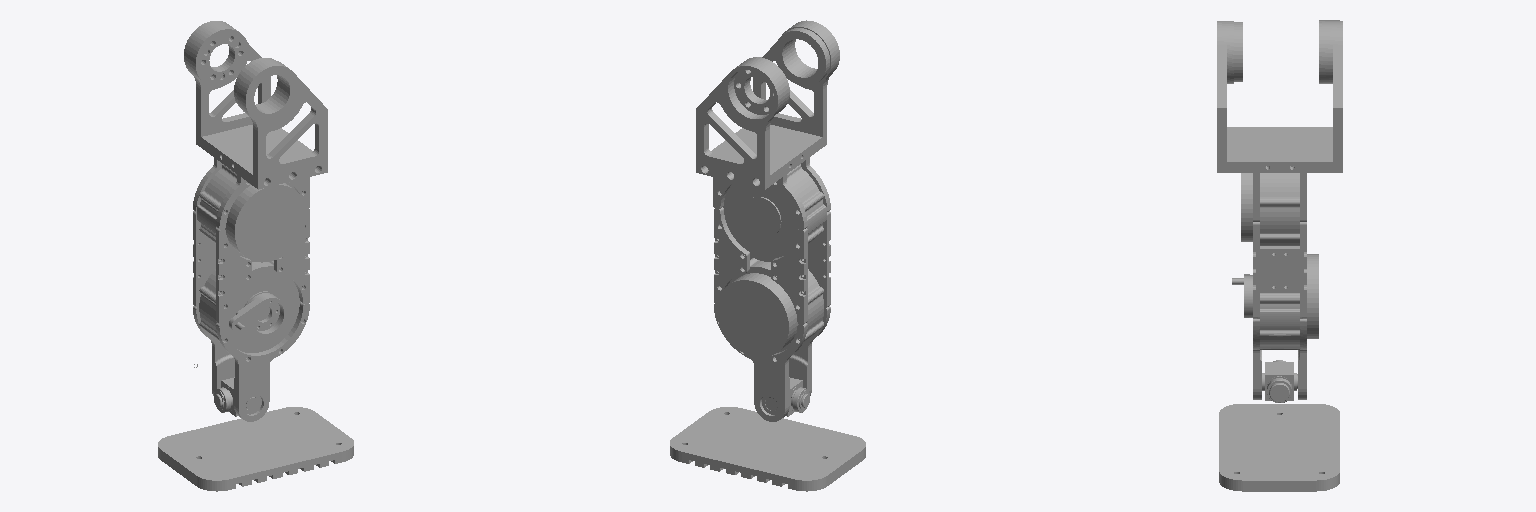
robot.urdf — rsu_2dof:
<?xml version="1.0" ?>
<!-- =================================================================================== -->
<!-- |    This document was autogenerated by xacro from rsu_2dof.xacro                 | -->
<!-- |    EDITING THIS FILE BY HAND IS NOT RECOMMENDED                                 | -->
<!-- =================================================================================== -->
<robot name="rsu_2dof">
  <material name="silver">
    <color rgba="0.700 0.700 0.700 1.000"/>
  </material>
  <transmission name="upper_crank_tran">
    <type>transmission_interface/SimpleTransmission</type>
    <joint name="upper_crank">
      <hardwareInterface>hardware_interface/EffortJointInterface</hardwareInterface>
    </joint>
    <actuator name="upper_crank_actr">
      <hardwareInterface>hardware_interface/EffortJointInterface</hardwareInterface>
      <mechanicalReduction>1</mechanicalReduction>
    </actuator>
  </transmission>
  <transmission name="lower_crank_tran">
    <type>transmission_interface/SimpleTransmission</type>
    <joint name="lower_crank">
      <hardwareInterface>hardware_interface/EffortJointInterface</hardwareInterface>
    </joint>
    <actuator name="lower_crank_actr">
      <hardwareInterface>hardware_interface/EffortJointInterface</hardwareInterface>
      <mechanicalReduction>1</mechanicalReduction>
    </actuator>
  </transmission>
  <transmission name="ankle_pitch_tran">
    <type>transmission_interface/SimpleTransmission</type>
    <joint name="ankle_pitch">
      <hardwareInterface>hardware_interface/EffortJointInterface</hardwareInterface>
    </joint>
    <actuator name="ankle_pitch_actr">
      <hardwareInterface>hardware_interface/EffortJointInterface</hardwareInterface>
      <mechanicalReduction>1</mechanicalReduction>
    </actuator>
  </transmission>
  <transmission name="ankle_roll_tran">
    <type>transmission_interface/SimpleTransmission</type>
    <joint name="ankle_roll">
      <hardwareInterface>hardware_interface/EffortJointInterface</hardwareInterface>
    </joint>
    <actuator name="ankle_roll_actr">
      <hardwareInterface>hardware_interface/EffortJointInterface</hardwareInterface>
      <mechanicalReduction>1</mechanicalReduction>
    </actuator>
  </transmission>
  <gazebo>
    <plugin filename="libgazebo_ros_control.so" name="control"/>
  </gazebo>
  <gazebo reference="base_link">
    <material>Gazebo/Silver</material>
    <mu1>0.2</mu1>
    <mu2>0.2</mu2>
    <self_collide>true</self_collide>
    <gravity>true</gravity>
  </gazebo>
  <gazebo reference="upper_crank_1">
    <material>Gazebo/Silver</material>
    <mu1>0.2</mu1>
    <mu2>0.2</mu2>
    <self_collide>true</self_collide>
  </gazebo>
  <gazebo reference="dummy_crank_1">
    <material>Gazebo/Silver</material>
    <mu1>0.2</mu1>
    <mu2>0.2</mu2>
    <self_collide>true</self_collide>
  </gazebo>
  <gazebo reference="ankle_1">
    <material>Gazebo/Silver</material>
    <mu1>0.2</mu1>
    <mu2>0.2</mu2>
    <self_collide>true</self_collide>
  </gazebo>
  <gazebo reference="dummy_foot_1">
    <material>Gazebo/Silver</material>
    <mu1>0.2</mu1>
    <mu2>0.2</mu2>
    <self_collide>true</self_collide>
  </gazebo>
  <gazebo reference="point_c1_1">
    <material>Gazebo/Silver</material>
    <mu1>0.2</mu1>
    <mu2>0.2</mu2>
    <self_collide>true</self_collide>
  </gazebo>
  <gazebo reference="point_c2_1">
    <material>Gazebo/Silver</material>
    <mu1>0.2</mu1>
    <mu2>0.2</mu2>
    <self_collide>true</self_collide>
  </gazebo>
  <gazebo reference="point_u1_1">
    <material>Gazebo/Silver</material>
    <mu1>0.2</mu1>
    <mu2>0.2</mu2>
    <self_collide>true</self_collide>
  </gazebo>
  <gazebo reference="point_u2_1">
    <material>Gazebo/Silver</material>
    <mu1>0.2</mu1>
    <mu2>0.2</mu2>
    <self_collide>true</self_collide>
  </gazebo>
  <gazebo reference="left_TPU_pad_1">
    <material>Gazebo/Silver</material>
    <mu1>0.2</mu1>
    <mu2>0.2</mu2>
    <self_collide>true</self_collide>
  </gazebo>
  <link name="base_link">
    <inertial>
      <origin rpy="0 0 0" xyz="-0.06454735857450085 2.9696553878366672e-05 0.2075971737886553"/>
      <mass value="2.397"/>
      <inertia ixx="0.011389" ixy="-6e-06" ixz="-0.000165" iyy="0.011333" iyz="0.000448" izz="0.001943"/>
    </inertial>
    <visual>
      <origin rpy="0 0 0" xyz="0 0 0"/>
      <geometry>
        <mesh filename="package://joystick_rsu/robot_model/meshes/base_link.stl" scale="0.001 0.001 0.001"/>
      </geometry>
      <material name="silver"/>
    </visual>
    <collision>
      <origin rpy="0 0 0" xyz="0 0 0"/>
      <geometry>
        <mesh filename="package://joystick_rsu/robot_model/meshes/base_link.stl" scale="0.001 0.001 0.001"/>
      </geometry>
    </collision>
  </link>
  <link name="upper_crank_1">
    <inertial>
      <origin rpy="0 0 0" xyz="-0.006580540837288221 0.006329895030518198 1.445724401047399e-05"/>
      <mass value="0.023"/>
      <inertia ixx="3e-06" ixy="1e-06" ixz="0.0" iyy="7e-06" iyz="-0.0" izz="5e-06"/>
    </inertial>
    <visual>
      <origin rpy="0 0 0" xyz="0.06585 -0.0168 -0.228"/>
      <geometry>
        <mesh filename="package://joystick_rsu/robot_model/meshes/upper_crank_1.stl" scale="0.001 0.001 0.001"/>
      </geometry>
      <material name="silver"/>
    </visual>
    <collision>
      <origin rpy="0 0 0" xyz="0.06585 -0.0168 -0.228"/>
      <geometry>
        <mesh filename="package://joystick_rsu/robot_model/meshes/upper_crank_1.stl" scale="0.001 0.001 0.001"/>
      </geometry>
    </collision>
  </link>
  <link name="dummy_crank_1">
    <inertial>
      <origin rpy="0 0 0" xyz="-0.006580540835227258 -0.006329895030086477 -1.4457243616844417e-05"/>
      <mass value="0.023"/>
      <inertia ixx="3e-06" ixy="-1e-06" ixz="-0.0" iyy="7e-06" iyz="-0.0" izz="5e-06"/>
    </inertial>
    <visual>
      <origin rpy="0 0 0" xyz="0.06585 0.0162 -0.14"/>
      <geometry>
        <mesh filename="package://joystick_rsu/robot_model/meshes/dummy_crank_1.stl" scale="0.001 0.001 0.001"/>
      </geometry>
      <material name="silver"/>
    </visual>
    <collision>
      <origin rpy="0 0 0" xyz="0.06585 0.0162 -0.14"/>
      <geometry>
        <mesh filename="package://joystick_rsu/robot_model/meshes/dummy_crank_1.stl" scale="0.001 0.001 0.001"/>
      </geometry>
    </collision>
  </link>
  <link name="ankle_1">
    <inertial>
      <origin rpy="0 0 0" xyz="0.000304888128968131 0.014499818256654359 3.734332731514245e-07"/>
      <mass value="0.032"/>
      <inertia ixx="5e-06" ixy="-0.0" ixz="0.0" iyy="9e-06" iyz="0.0" izz="1e-05"/>
    </inertial>
    <visual>
      <origin rpy="0 0 0" xyz="0.0762 0.0145 -0.058"/>
      <geometry>
        <mesh filename="package://joystick_rsu/robot_model/meshes/ankle_1.stl" scale="0.001 0.001 0.001"/>
      </geometry>
      <material name="silver"/>
    </visual>
    <collision>
      <origin rpy="0 0 0" xyz="0.0762 0.0145 -0.058"/>
      <geometry>
        <mesh filename="package://joystick_rsu/robot_model/meshes/ankle_1.stl" scale="0.001 0.001 0.001"/>
      </geometry>
    </collision>
  </link>
  <link name="dummy_foot_1">
    <inertial>
      <origin rpy="0 0 0" xyz="-0.01935626168502321 5.034154426653004e-11 -0.034817657252046844"/>
      <mass value="0.334"/>
      <inertia ixx="0.000465" ixy="0.0" ixz="7.7e-05" iyy="0.000788" iyz="-0.0" izz="0.001026"/>
    </inertial>
    <visual>
      <origin rpy="0 0 0" xyz="0.0565 -0.0 -0.058"/>
      <geometry>
        <mesh filename="package://joystick_rsu/robot_model/meshes/dummy_foot_1.stl" scale="0.001 0.001 0.001"/>
      </geometry>
      <material name="silver"/>
    </visual>
    <collision>
      <origin rpy="0 0 0" xyz="0.0565 -0.0 -0.058"/>
      <geometry>
        <mesh filename="package://joystick_rsu/robot_model/meshes/dummy_foot_1.stl" scale="0.001 0.001 0.001"/>
      </geometry>
    </collision>
  </link>
  <link name="point_c1_1">
    <inertial>
      <origin rpy="0 0 0" xyz="7.239654922774896e-08 5.000057170731487e-07 -9.109231108306304e-08"/>
      <mass value="1.5448781874028438e-08"/>
      <inertia ixx="0.0" ixy="-0.0" ixz="0.0" iyy="0.0" iyz="-0.0" izz="0.0"/>
    </inertial>
    <visual>
      <origin rpy="0 0 0" xyz="0.09585 -0.0398 -0.228066"/>
      <geometry>
        <mesh filename="package://joystick_rsu/robot_model/meshes/point_c1_1.stl" scale="0.001 0.001 0.001"/>
      </geometry>
      <material name="silver"/>
    </visual>
    <collision>
      <origin rpy="0 0 0" xyz="0.09585 -0.0398 -0.228066"/>
      <geometry>
        <mesh filename="package://joystick_rsu/robot_model/meshes/point_c1_1.stl" scale="0.001 0.001 0.001"/>
      </geometry>
    </collision>
  </link>
  <link name="point_c2_1">
    <inertial>
      <origin rpy="0 0 0" xyz="7.239861758712163e-08 -4.999998896373925e-07 9.109051271605217e-08"/>
      <mass value="1.5448781874028438e-08"/>
      <inertia ixx="0.0" ixy="-0.0" ixz="-0.0" iyy="0.0" iyz="-0.0" izz="0.0"/>
    </inertial>
    <visual>
      <origin rpy="0 0 0" xyz="0.09585 0.0392 -0.139934"/>
      <geometry>
        <mesh filename="package://joystick_rsu/robot_model/meshes/point_c2_1.stl" scale="0.001 0.001 0.001"/>
      </geometry>
      <material name="silver"/>
    </visual>
    <collision>
      <origin rpy="0 0 0" xyz="0.09585 0.0392 -0.139934"/>
      <geometry>
        <mesh filename="package://joystick_rsu/robot_model/meshes/point_c2_1.stl" scale="0.001 0.001 0.001"/>
      </geometry>
    </collision>
  </link>
  <link name="point_u1_1">
    <inertial>
      <origin rpy="0 0 0" xyz="3.0946079032645457e-13 4.999991201348752e-07 1.3990197889057754e-13"/>
      <mass value="1.5448781874028438e-08"/>
      <inertia ixx="0.0" ixy="0.0" ixz="0.0" iyy="0.0" iyz="0.0" izz="0.0"/>
    </inertial>
    <visual>
      <origin rpy="0 0 0" xyz="0.0965 -0.040667 -0.074"/>
      <geometry>
        <mesh filename="package://joystick_rsu/robot_model/meshes/point_u1_1.stl" scale="0.001 0.001 0.001"/>
      </geometry>
      <material name="silver"/>
    </visual>
    <collision>
      <origin rpy="0 0 0" xyz="0.0965 -0.040667 -0.074"/>
      <geometry>
        <mesh filename="package://joystick_rsu/robot_model/meshes/point_u1_1.stl" scale="0.001 0.001 0.001"/>
      </geometry>
    </collision>
  </link>
  <link name="point_u2_1">
    <inertial>
      <origin rpy="0 0 0" xyz="3.0923874572152954e-13 -5.000008797551025e-07 -3.97237798210881e-13"/>
      <mass value="1.5448781874028438e-08"/>
      <inertia ixx="0.0" ixy="0.0" ixz="-0.0" iyy="0.0" iyz="0.0" izz="0.0"/>
    </inertial>
    <visual>
      <origin rpy="0 0 0" xyz="0.0965 0.040667 -0.074"/>
      <geometry>
        <mesh filename="package://joystick_rsu/robot_model/meshes/point_u2_1.stl" scale="0.001 0.001 0.001"/>
      </geometry>
      <material name="silver"/>
    </visual>
    <collision>
      <origin rpy="0 0 0" xyz="0.0965 0.040667 -0.074"/>
      <geometry>
        <mesh filename="package://joystick_rsu/robot_model/meshes/point_u2_1.stl" scale="0.001 0.001 0.001"/>
      </geometry>
    </collision>
  </link>
  <link name="left_TPU_pad_1">
    <inertial>
      <origin rpy="0 0 0" xyz="-0.06025801063712779 0.03499999999999956 -0.004596574659817192"/>
      <mass value="0.136"/>
      <inertia ixx="9.6e-05" ixy="-0.0" ixz="-0.0" iyy="0.000228" iyz="0.0" izz="0.000322"/>
    </inertial>
    <visual>
      <origin rpy="0 0 0" xyz="0.0015 0.035 -0.01"/>
      <geometry>
        <mesh filename="package://joystick_rsu/robot_model/meshes/left_TPU_pad_1.stl" scale="0.001 0.001 0.001"/>
      </geometry>
      <material name="silver"/>
    </visual>
    <collision>
      <origin rpy="0 0 0" xyz="0.0015 0.035 -0.01"/>
      <geometry>
        <mesh filename="package://joystick_rsu/robot_model/meshes/left_TPU_pad_1.stl" scale="0.001 0.001 0.001"/>
      </geometry>
    </collision>
  </link>
  <joint name="upper_crank" type="continuous">
    <origin rpy="0 0 0" xyz="-0.06585 0.0168 0.228"/>
    <parent link="base_link"/>
    <child link="upper_crank_1"/>
    <axis xyz="-0.0 1.0 -0.0"/>
  </joint>
  <joint name="lower_crank" type="continuous">
    <origin rpy="0 0 0" xyz="-0.06585 -0.0162 0.14"/>
    <parent link="base_link"/>
    <child link="dummy_crank_1"/>
    <axis xyz="0.0 -1.0 0.0"/>
  </joint>
  <joint name="ankle_pitch" type="continuous">
    <origin rpy="0 0 0" xyz="-0.0762 -0.0145 0.058"/>
    <parent link="base_link"/>
    <child link="ankle_1"/>
    <axis xyz="-0.0 1.0 -0.0"/>
  </joint>
  <joint name="ankle_roll" type="continuous">
    <origin rpy="0 0 0" xyz="0.0197 0.0145 0.0"/>
    <parent link="ankle_1"/>
    <child link="dummy_foot_1"/>
    <axis xyz="1.0 0.0 -0.0"/>
  </joint>
  <joint name="rigid_c1" type="fixed">
    <origin rpy="0 0 0" xyz="-0.03 0.023 6.6e-05"/>
    <parent link="upper_crank_1"/>
    <child link="point_c1_1"/>
  </joint>
  <joint name="rigid_c2" type="fixed">
    <origin rpy="0 0 0" xyz="-0.03 -0.023 -6.6e-05"/>
    <parent link="dummy_crank_1"/>
    <child link="point_c2_1"/>
  </joint>
  <joint name="rigid_u1" type="fixed">
    <origin rpy="0 0 0" xyz="-0.04 0.040667 0.016"/>
    <parent link="dummy_foot_1"/>
    <child link="point_u1_1"/>
  </joint>
  <joint name="rigid_u2" type="fixed">
    <origin rpy="0 0 0" xyz="-0.04 -0.040667 0.016"/>
    <parent link="dummy_foot_1"/>
    <child link="point_u2_1"/>
  </joint>
  <joint name="rigid_TPU" type="fixed">
    <origin rpy="0 0 0" xyz="0.055 -0.035 -0.048"/>
    <parent link="dummy_foot_1"/>
    <child link="left_TPU_pad_1"/>
  </joint>
</robot>

--- Render facts (derived) ---
3 views of the same robot in one strip: view 1: azimuth 30°, elevation 25°; view 2: azimuth 150°, elevation 25°; view 3: azimuth 270°, elevation 25° (orthographic).
Robot: rsu_2dof — 10 links, 9 joints (4 continuous, 5 fixed); root link base_link; default pose: all joints at 0.
Visible links, largest first — view 1: base_link, left_TPU_pad_1, dummy_crank_1, ankle_1; view 2: base_link, left_TPU_pad_1, ankle_1; view 3: base_link, left_TPU_pad_1, ankle_1.
Boxes of the visible links, x1=… form: base_link: x1=184, y1=21, x2=327, y2=421; left_TPU_pad_1: x1=158, y1=407, x2=353, y2=491; dummy_crank_1: x1=229, y1=293, x2=286, y2=336; ankle_1: x1=214, y1=377, x2=258, y2=416; base_link: x1=696, y1=20, x2=839, y2=421; left_TPU_pad_1: x1=670, y1=407, x2=865, y2=491; ankle_1: x1=765, y1=377, x2=809, y2=416; base_link: x1=1217, y1=20, x2=1342, y2=399; left_TPU_pad_1: x1=1219, y1=404, x2=1339, y2=491; ankle_1: x1=1262, y1=360, x2=1297, y2=402.
Bounding box of the posed robot: 0.15 × 0.104 × 0.384 m (x, y, z).
6 mesh visuals loaded from 10 distinct referenced files (6 binary STL); not drawn: 4 (reference not matched to a file when rendering).
